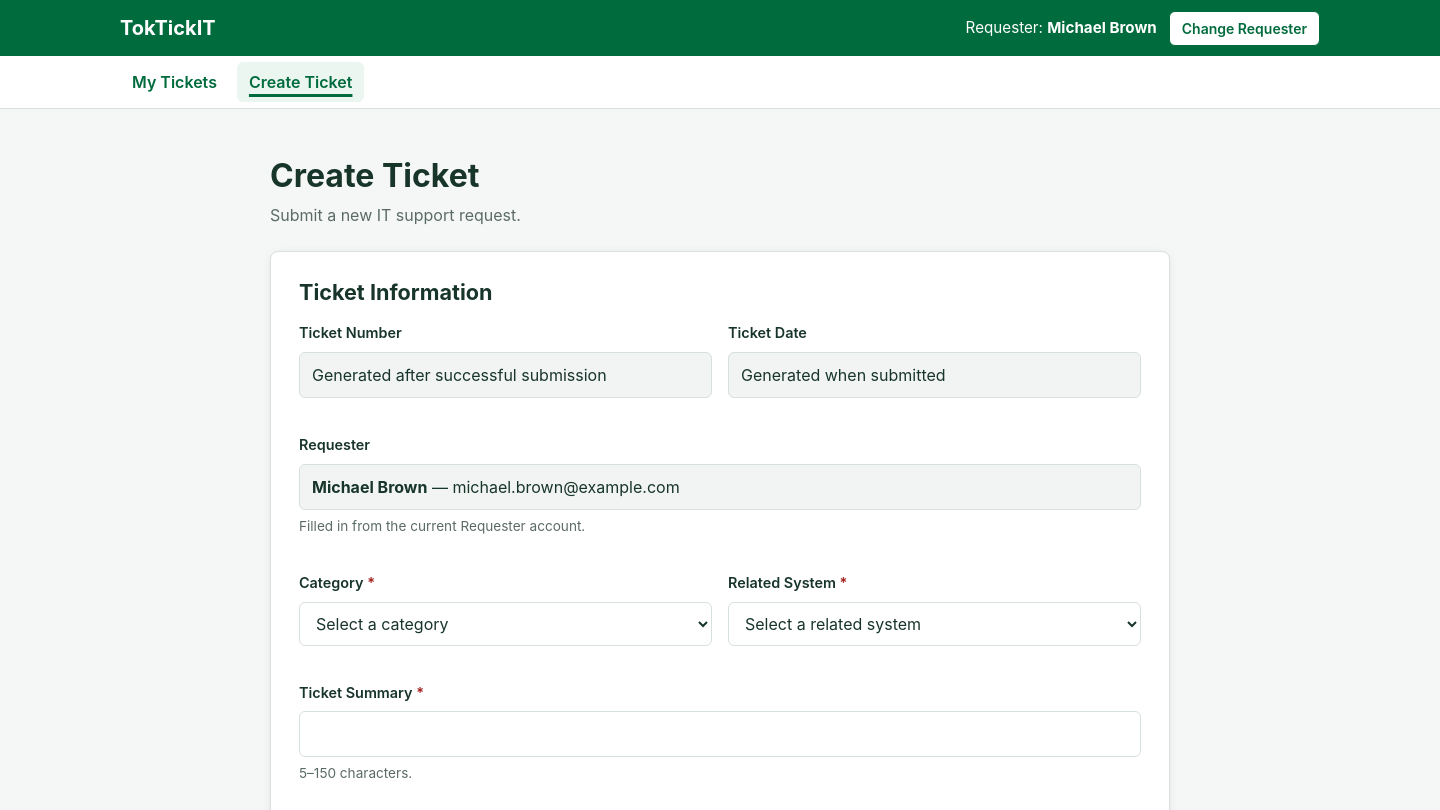
Development Requester Selection › clears the Requester when Change Requester is clicked
Click the button "Change Requester": click(1244, 28) [1169,10,1320,46]
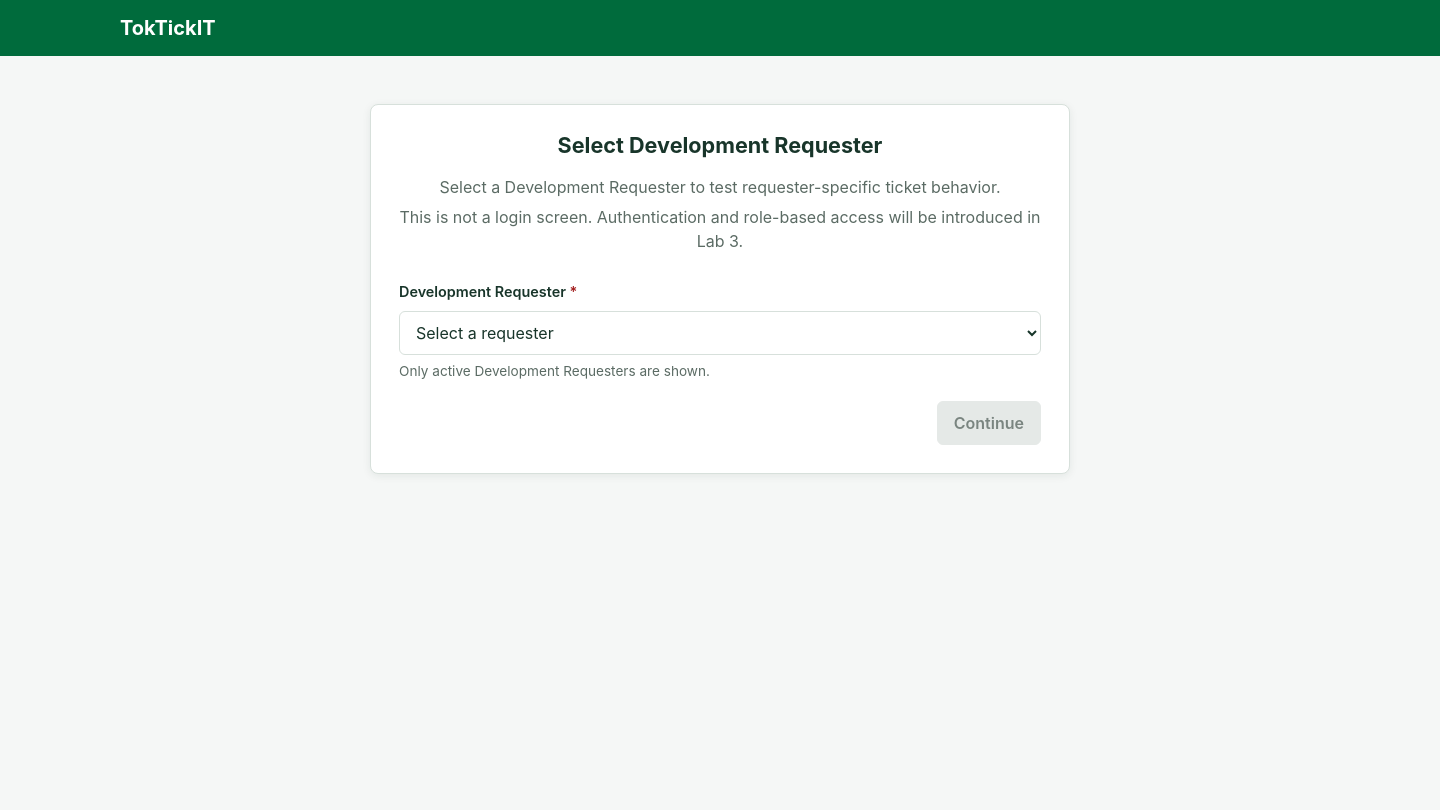
Now the heading "Select Development Requester" is shown, box [558,132,882,158]
